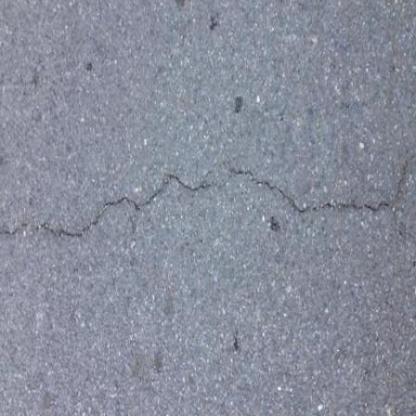Cracks: (2, 140, 416, 247)
